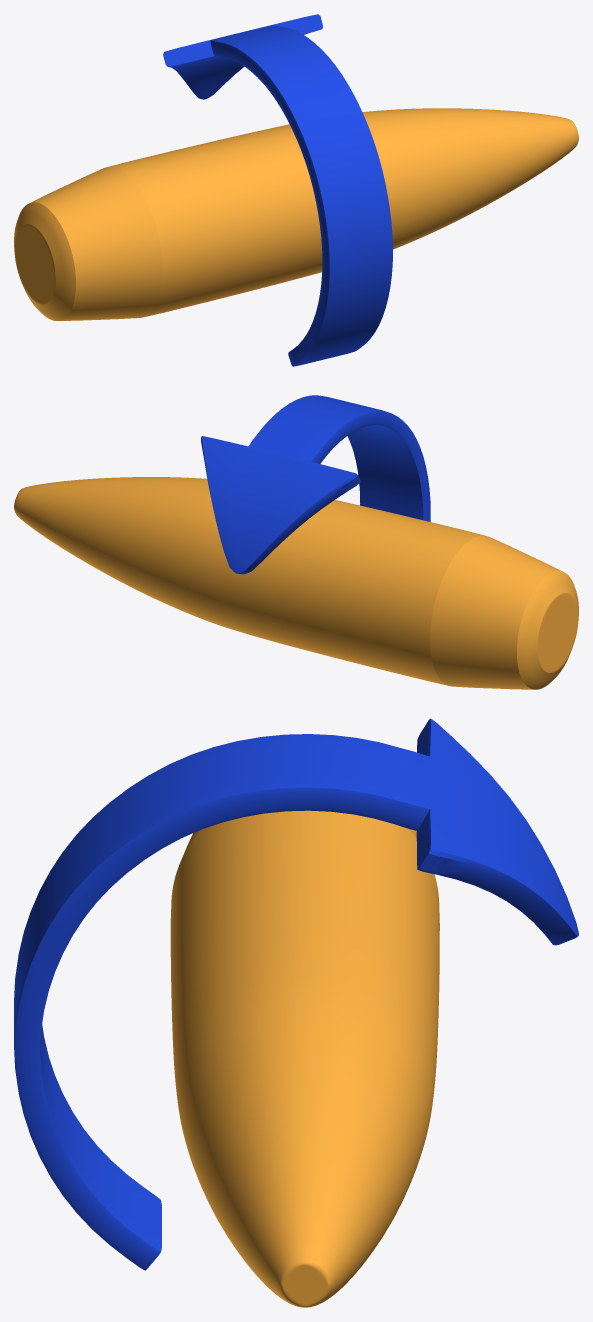
Rendered from Bullet.glb.
3 renders of one model, top to bottom at view 1: azimuth 30°, elevation 25°; view 2: azimuth 150°, elevation 25°; view 3: azimuth 270°, elevation 25°, orthographic. The views are drawn at different scales.
Parts seen in each view (by area): view 1: Cylinder, Plane; view 2: Cylinder, Plane; view 3: Cylinder, Plane.
Part boxes in pixels (x1,y1,x2,y2): Cylinder: (14,108,578,320); Plane: (163,14,392,366); Cylinder: (14,477,578,689); Plane: (201,395,430,574); Cylinder: (170,810,439,1307); Plane: (14,718,578,1270).
Size of the model in its own units: 4.05 by 2.01 by 2.13.
2 materials, 2 textured.
